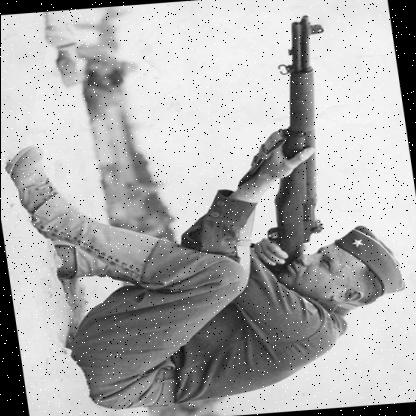rifle: (221, 12, 363, 274)
